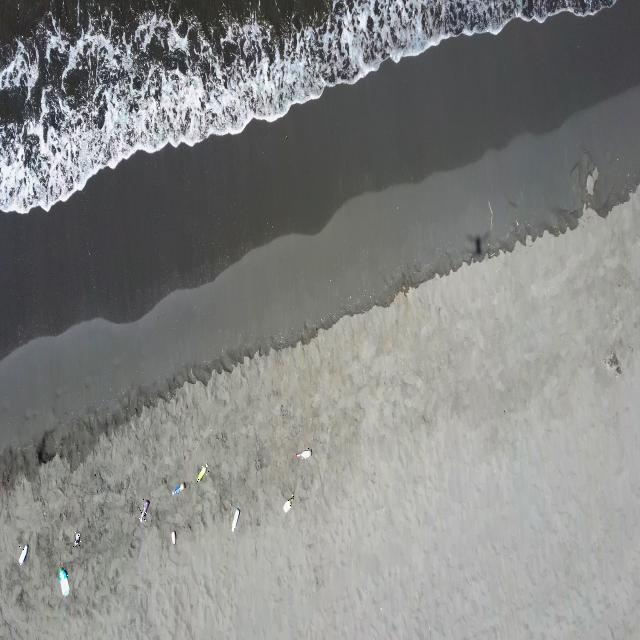plastic-bottle: (58, 567, 71, 598), (139, 499, 150, 523), (197, 462, 209, 482), (18, 543, 28, 565), (232, 509, 241, 533), (172, 481, 186, 496), (296, 448, 312, 461), (283, 495, 294, 512), (73, 532, 81, 547), (171, 530, 176, 544)
